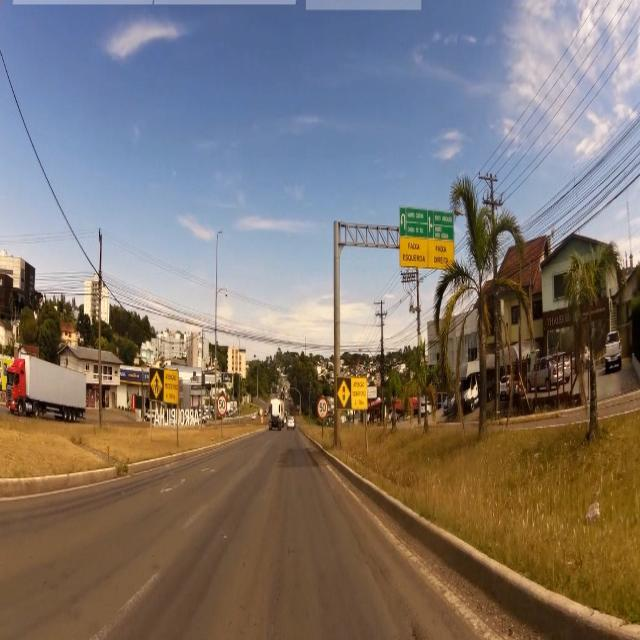A-14: (338, 378, 350, 407)
A-32b: (149, 369, 163, 399)
